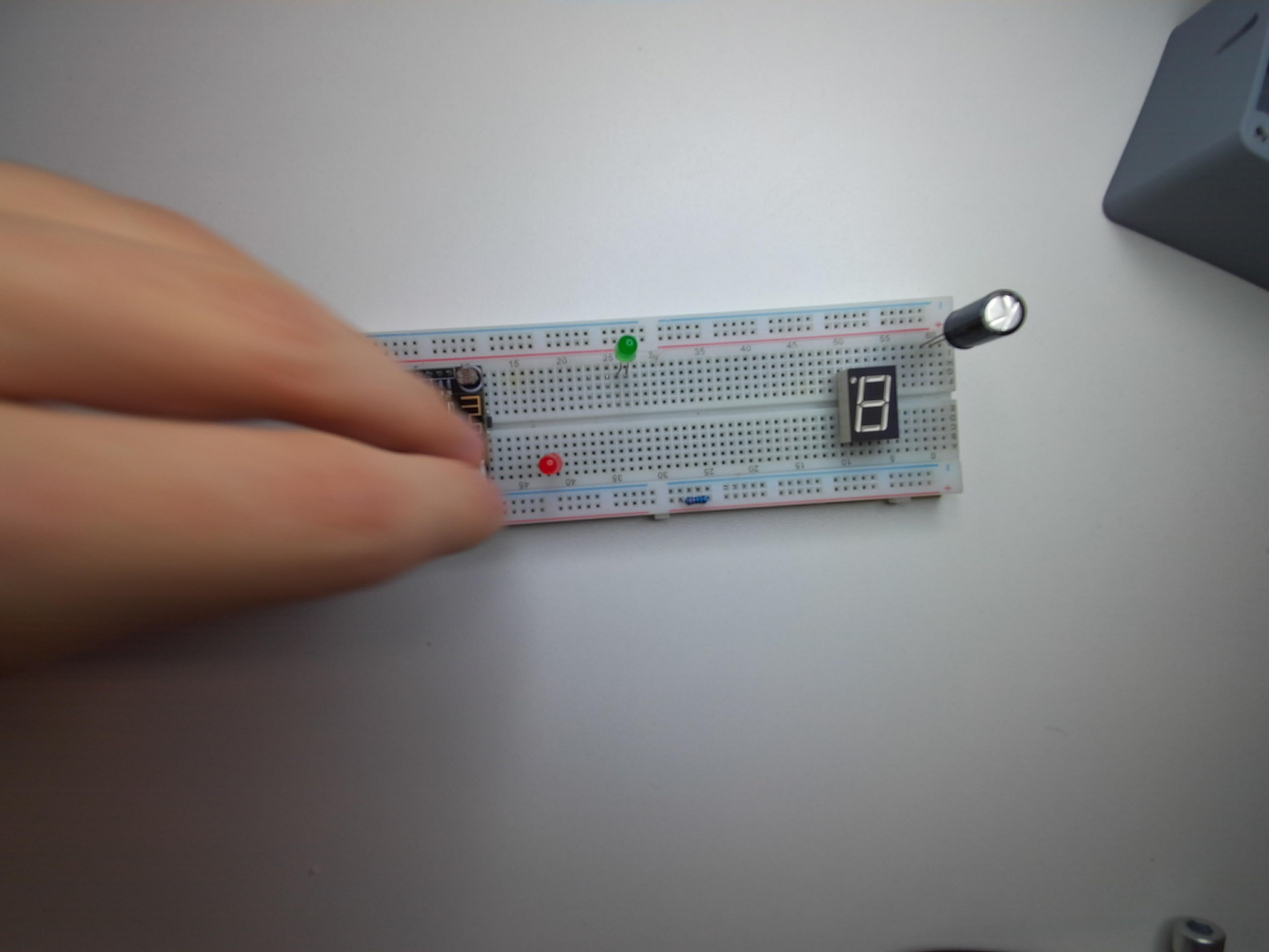base: (319, 283, 961, 532)
capacitor: (940, 288, 1027, 355)
digit-board: (834, 366, 901, 449)
green-led: (608, 335, 638, 372), (616, 331, 637, 363)
red-led: (539, 453, 563, 475)
resistor-small: (680, 491, 712, 509)
